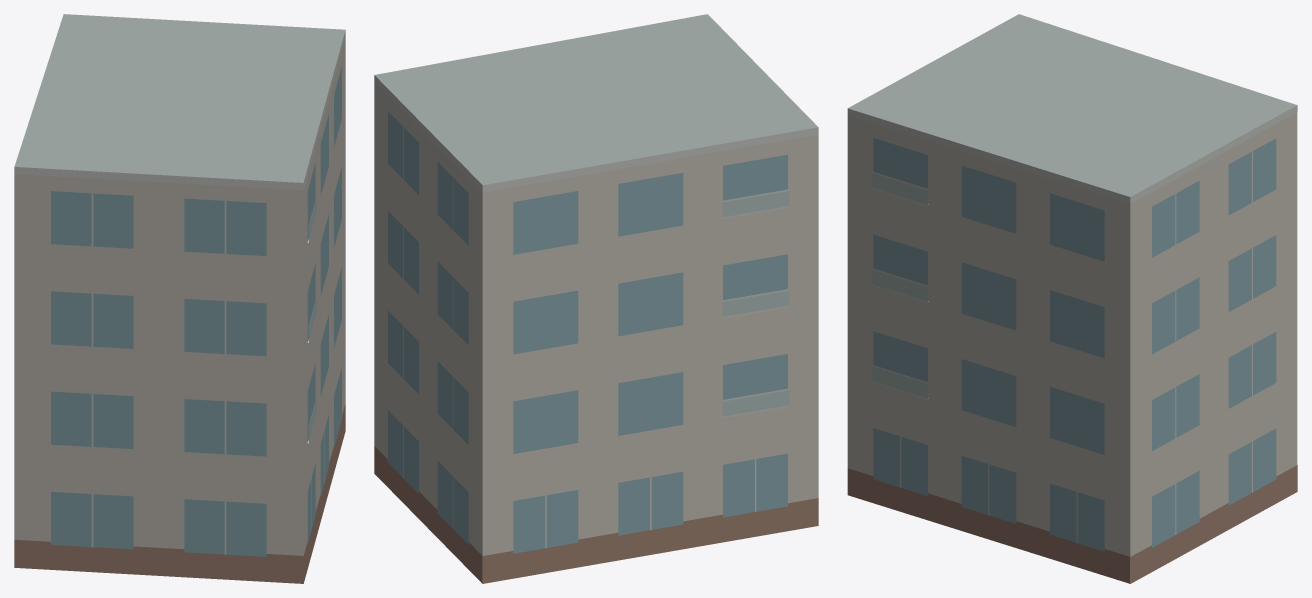
The model's file is survey-upis-32578736.glb.
The picture shows the model from 3 angles, left to right: view 1: azimuth 30°, elevation 25°; view 2: azimuth 150°, elevation 25°; view 3: azimuth 270°, elevation 25°; orthographic projection. The views are drawn at different scales.
Parts seen in each view (by area): view 1: survey-upis-32578736.tmp; view 2: survey-upis-32578736.tmp; view 3: survey-upis-32578736.tmp.
Boxes of the visible parts, <box> form: survey-upis-32578736.tmp: <box>14,14,345,583</box>; survey-upis-32578736.tmp: <box>374,14,818,583</box>; survey-upis-32578736.tmp: <box>847,14,1297,583</box>.
Size of the model in its own units: 13.62 by 13.4 by 14.13.
